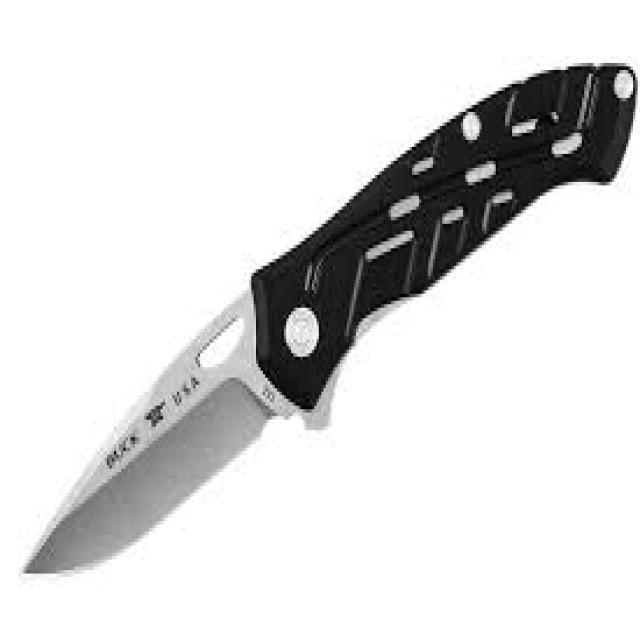knives: (18, 52, 638, 580)
